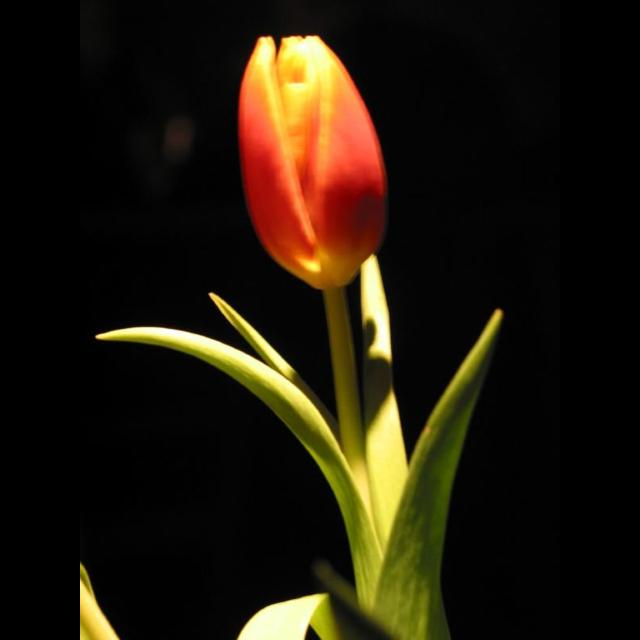Flower: (224, 24, 386, 284)
